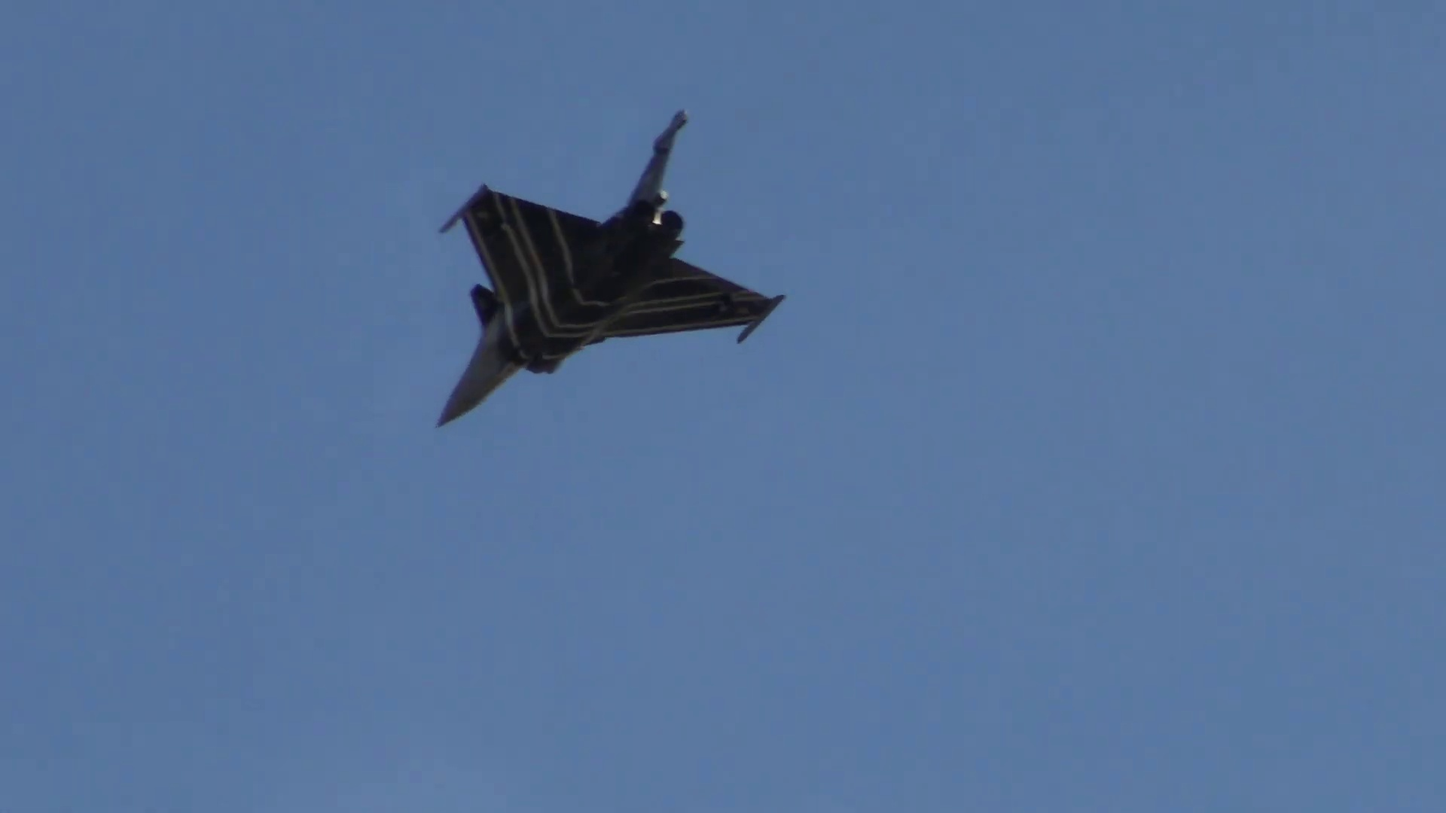Rafale: (430, 105, 789, 430)
